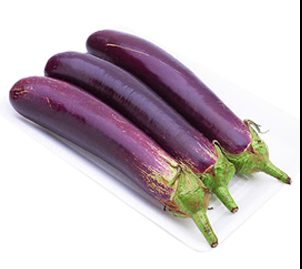catim: (3, 64, 221, 248), (36, 40, 238, 219), (81, 23, 293, 190)
